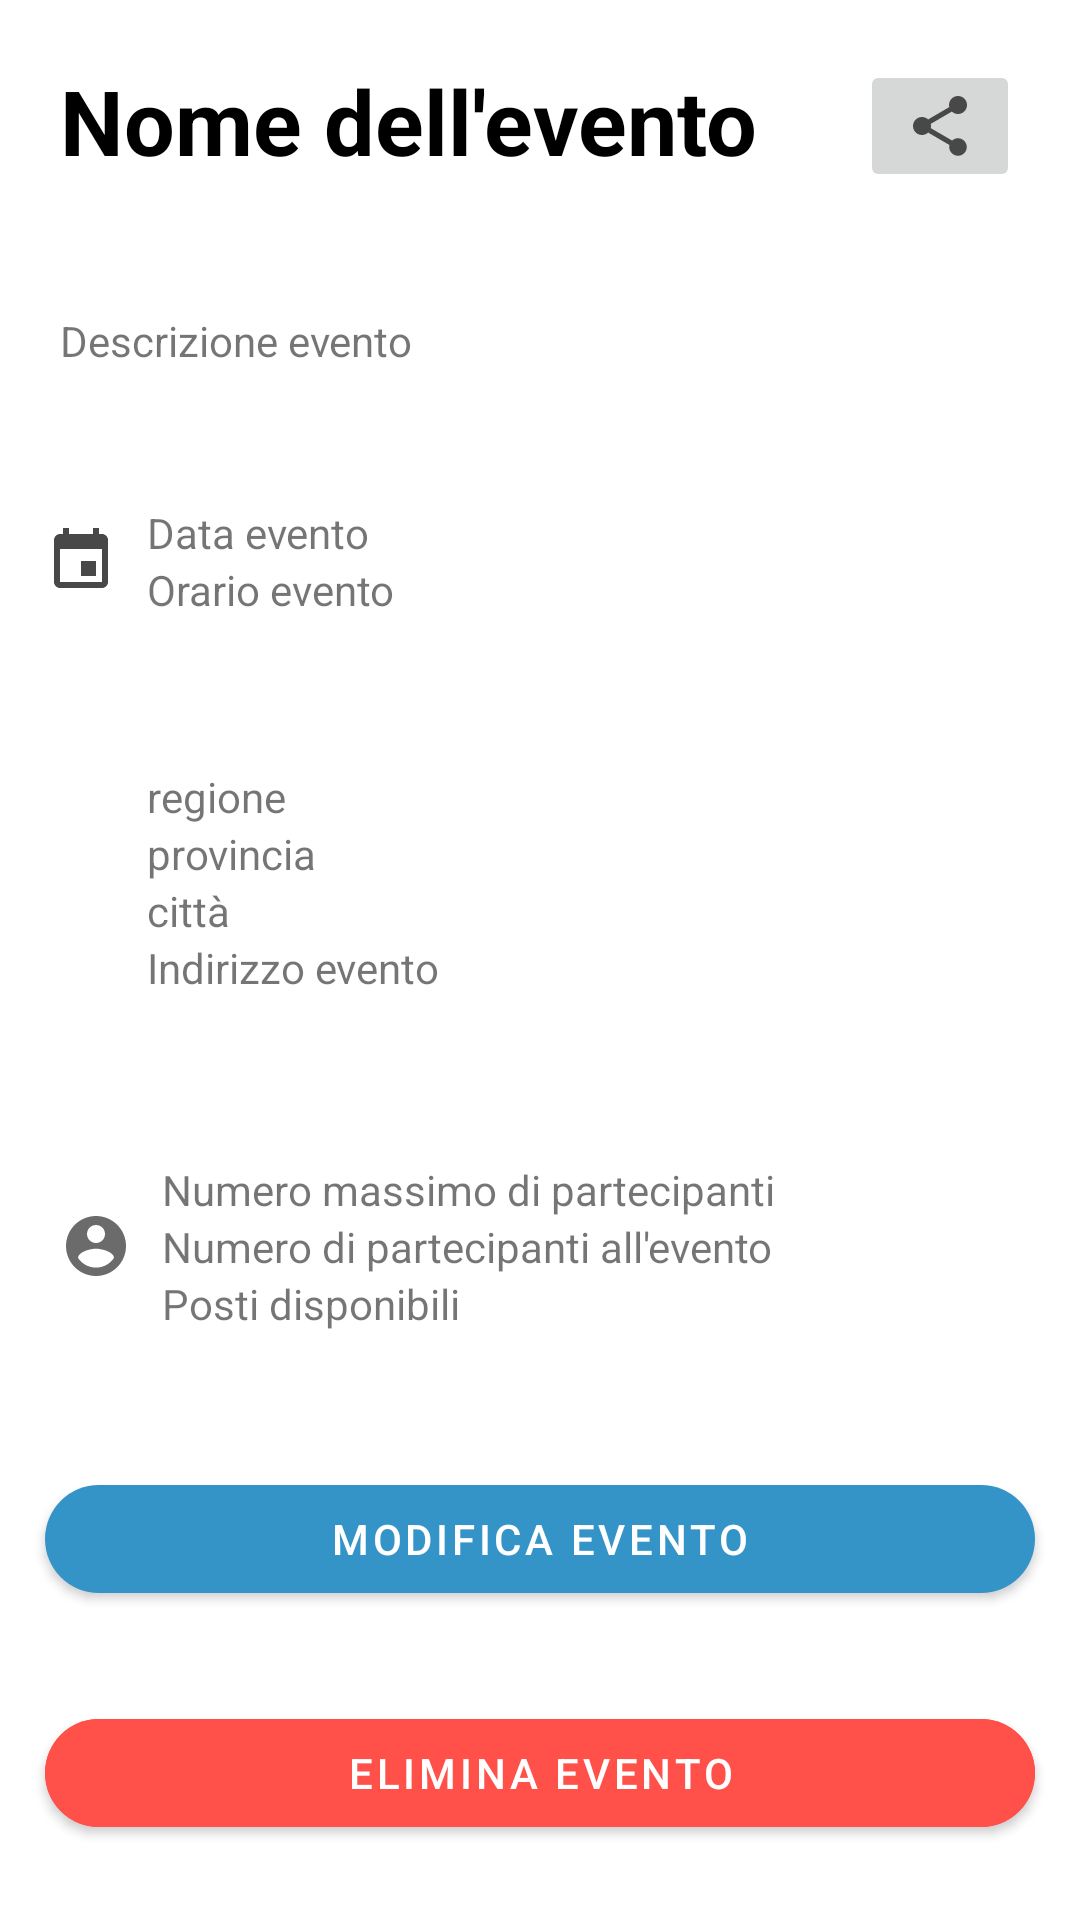

Where to tap for icons on this 1080*1920 app screen, as (x,y):
account circle: (96,1246)
share: (940,126)
